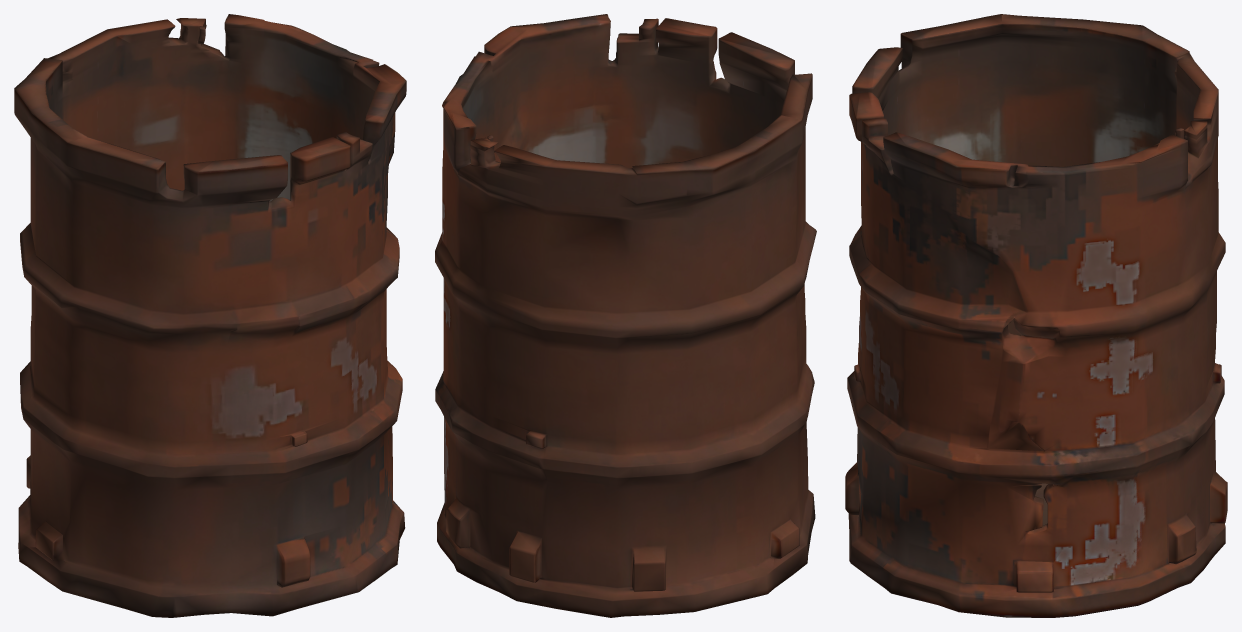
Rendered from fire_barrel.glb.
3 views of the same model, side by side, from view 1: azimuth 30°, elevation 25°; view 2: azimuth 150°, elevation 25°; view 3: azimuth 270°, elevation 25° (orthographic).
Parts seen in each view (by area): view 1: tripo_node_34bb2393-9a45-4a47-b275-433d9bd0b35a; view 2: tripo_node_34bb2393-9a45-4a47-b275-433d9bd0b35a; view 3: tripo_node_34bb2393-9a45-4a47-b275-433d9bd0b35a.
Boxes of the visible parts, x1,y1,x2,y2 form: tripo_node_34bb2393-9a45-4a47-b275-433d9bd0b35a: (14,14,406,617); tripo_node_34bb2393-9a45-4a47-b275-433d9bd0b35a: (435,14,816,617); tripo_node_34bb2393-9a45-4a47-b275-433d9bd0b35a: (845,14,1227,617).
Bounding box in the file's own units: 0.773 × 1 × 0.773.
Materials: 1 (1 with a texture image).
